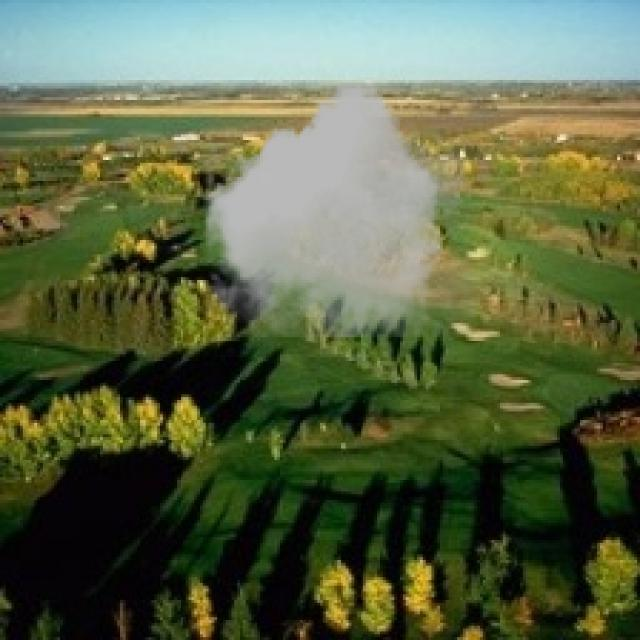Smoke: (200, 82, 474, 338)
